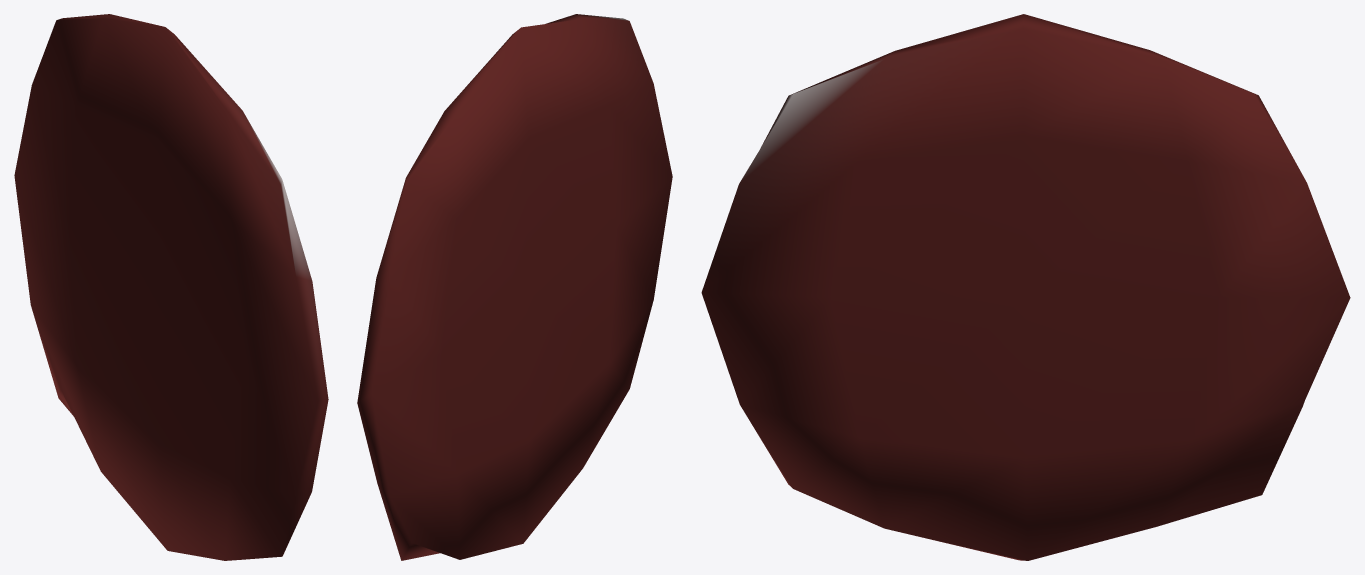
Rendered from Meat-Salami-Sliced.fbx.
3 views of the same model, side by side, from view 1: azimuth 30°, elevation 25°; view 2: azimuth 150°, elevation 25°; view 3: azimuth 270°, elevation 25° (orthographic). The views are drawn at different scales.
Parts seen in each view (by area): view 1: Meat-Salami-Sliced; view 2: Meat-Salami-Sliced; view 3: Meat-Salami-Sliced.
Boxes of the visible parts, x1=… form: Meat-Salami-Sliced: x1=14, y1=14, x2=328, y2=560; Meat-Salami-Sliced: x1=357, y1=14, x2=672, y2=560; Meat-Salami-Sliced: x1=701, y1=14, x2=1350, y2=560.
Bounding box in the file's own units: 33.67 × 503 × 541.
